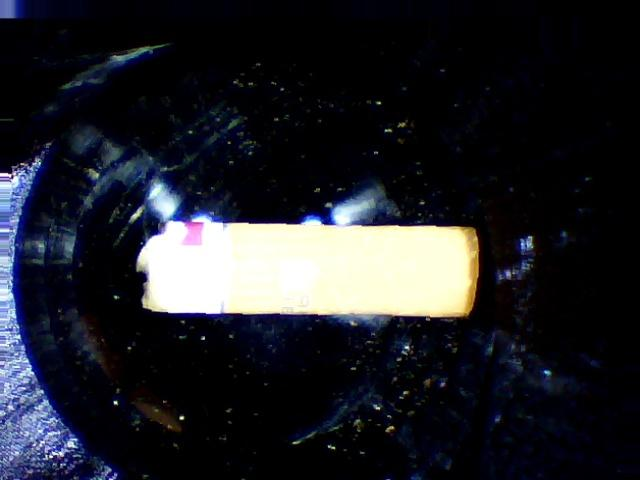megot: (112, 210, 502, 333)
